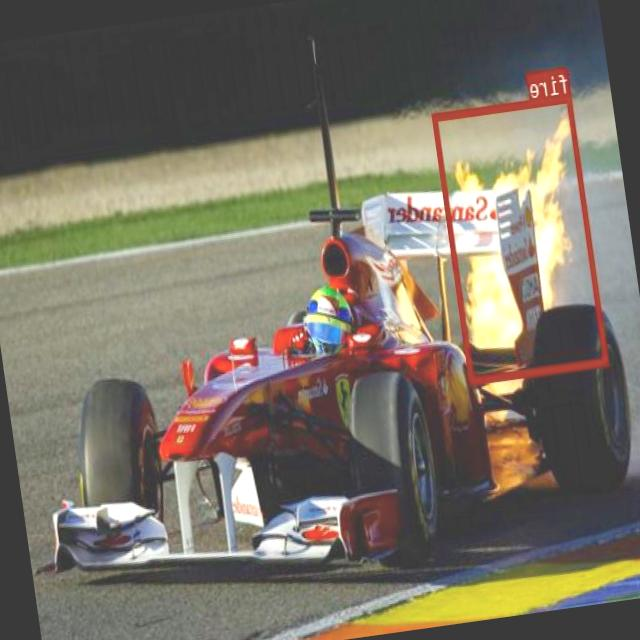fire: (433, 93, 609, 383)
